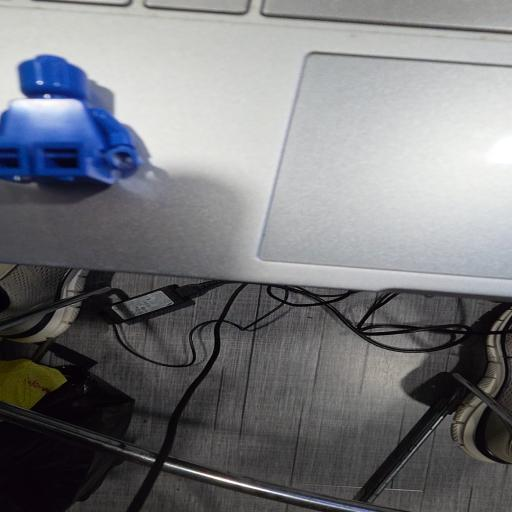Blue: (0, 55, 142, 185)
